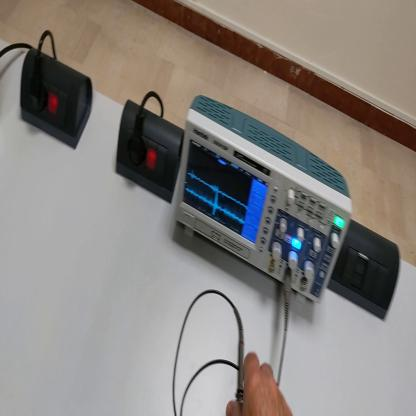hand: (227, 353, 294, 416)
oscilloscope: (178, 87, 347, 312)
oscilloscope probe tip: (231, 308, 245, 409)
socket: (16, 46, 97, 153), (116, 93, 185, 207)
